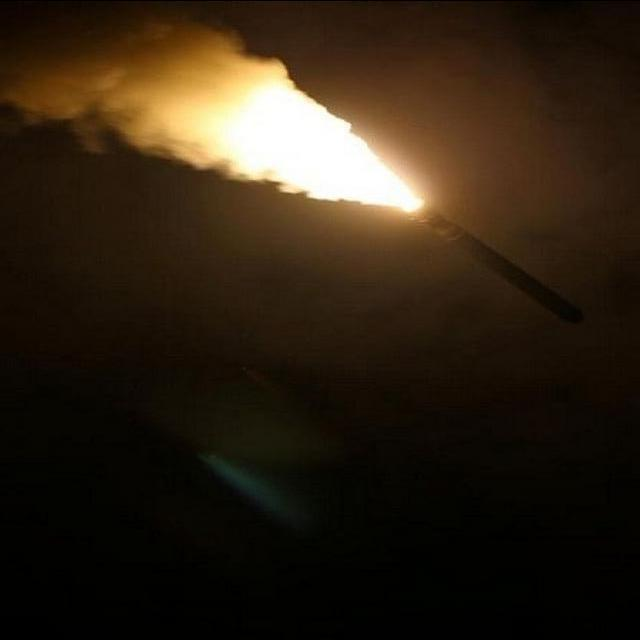missile: (418, 190, 588, 327)
